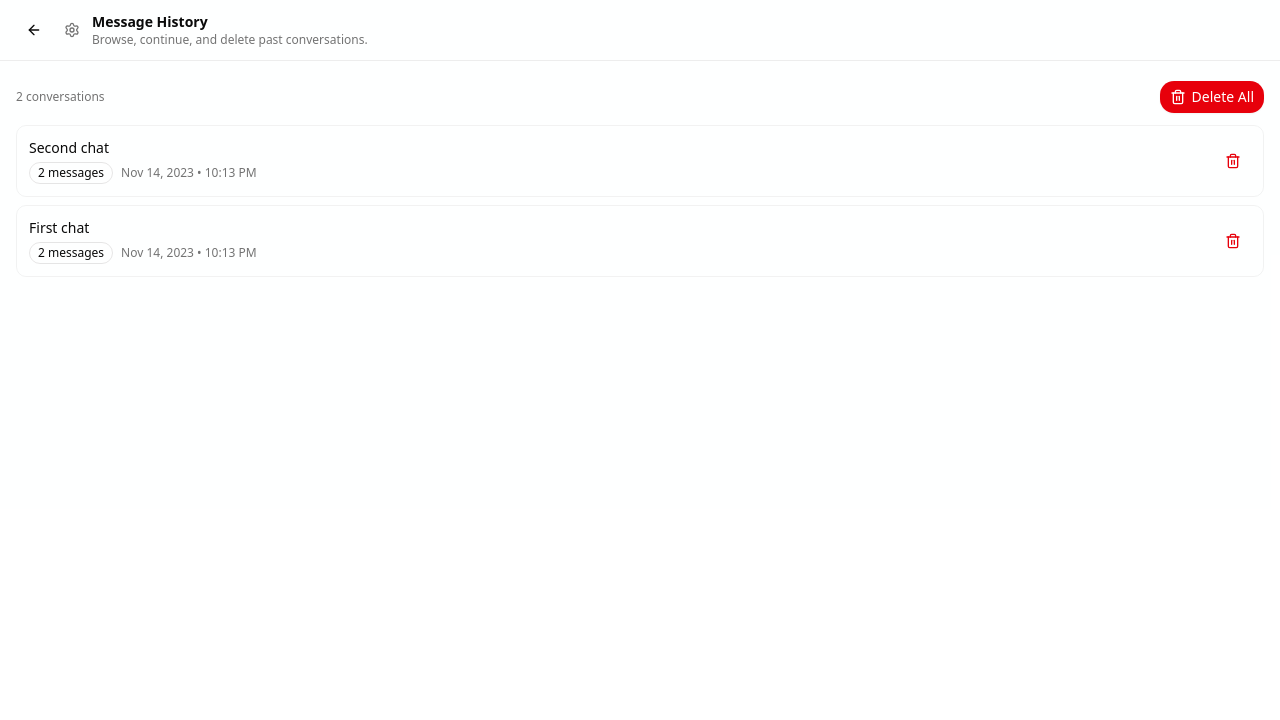
Test case: Toggle Settings → Message History › deleting one conversation › Cancel closes the confirmation without deleting
Click the button named "Delete conversation First chat" at coordinates (1233, 241), box left=1215, top=223, right=1251, bottom=259
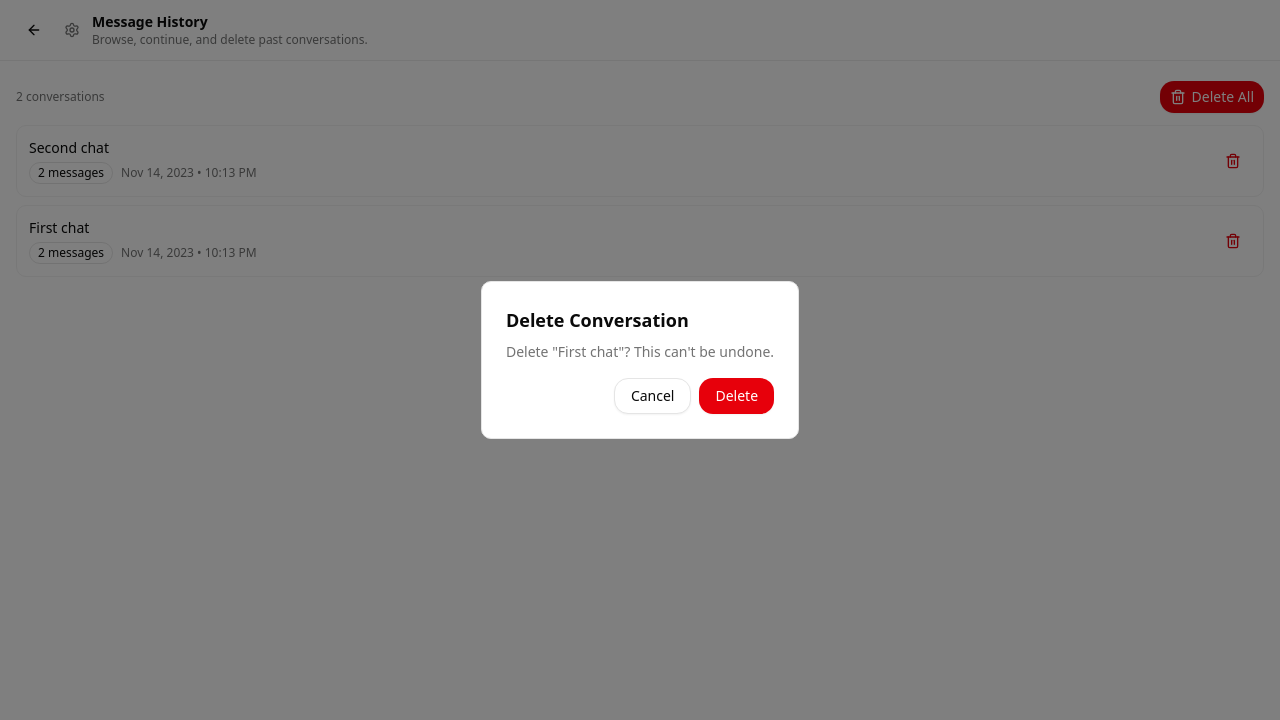
Expected: the text "Delete \"First chat\"? This can't be undone." is shown, left=506, top=342, right=774, bottom=362
Click the button "Cancel" at coordinates (653, 396), box left=614, top=378, right=692, bottom=414
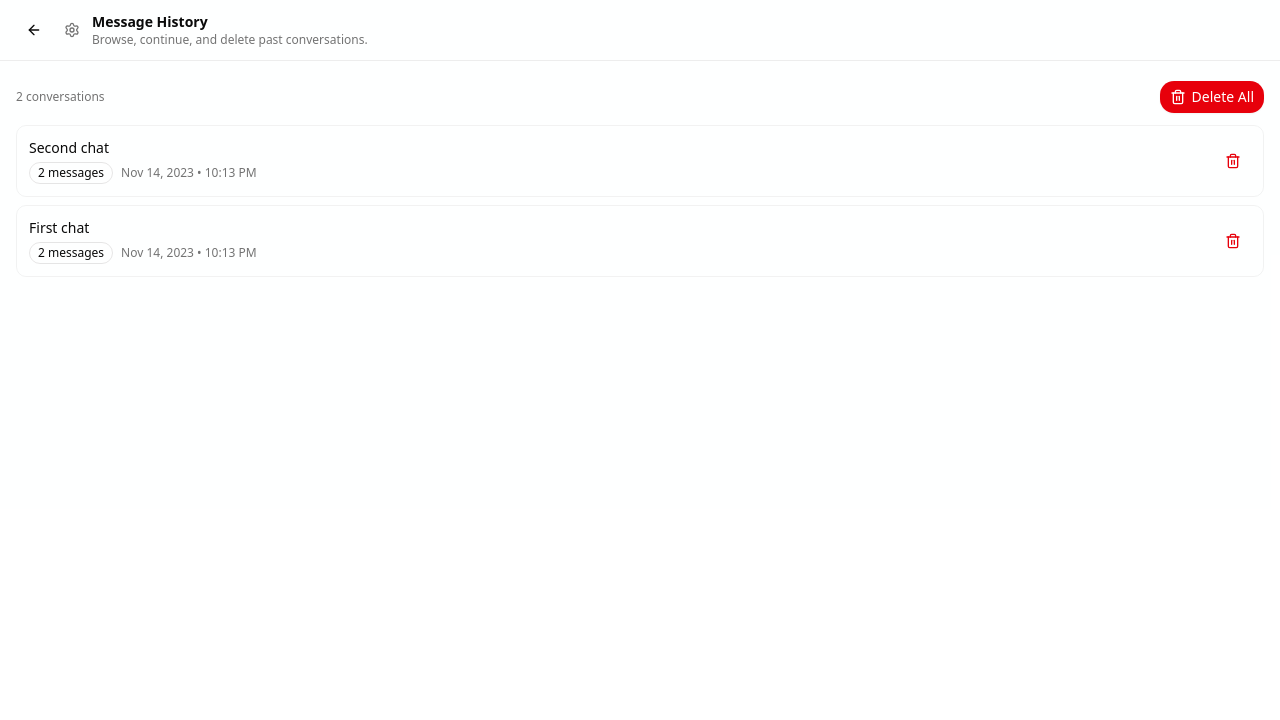
Expected: the text "First chat" is shown, left=29, top=218, right=89, bottom=237
Expected: the dialog is gone
